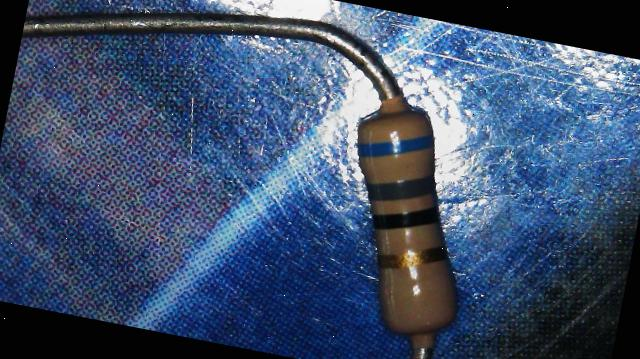black: (372, 196, 442, 238)
blue: (354, 121, 436, 169)
gold: (376, 233, 449, 278)
grey: (364, 164, 438, 210)
resistor: (339, 75, 475, 350)
